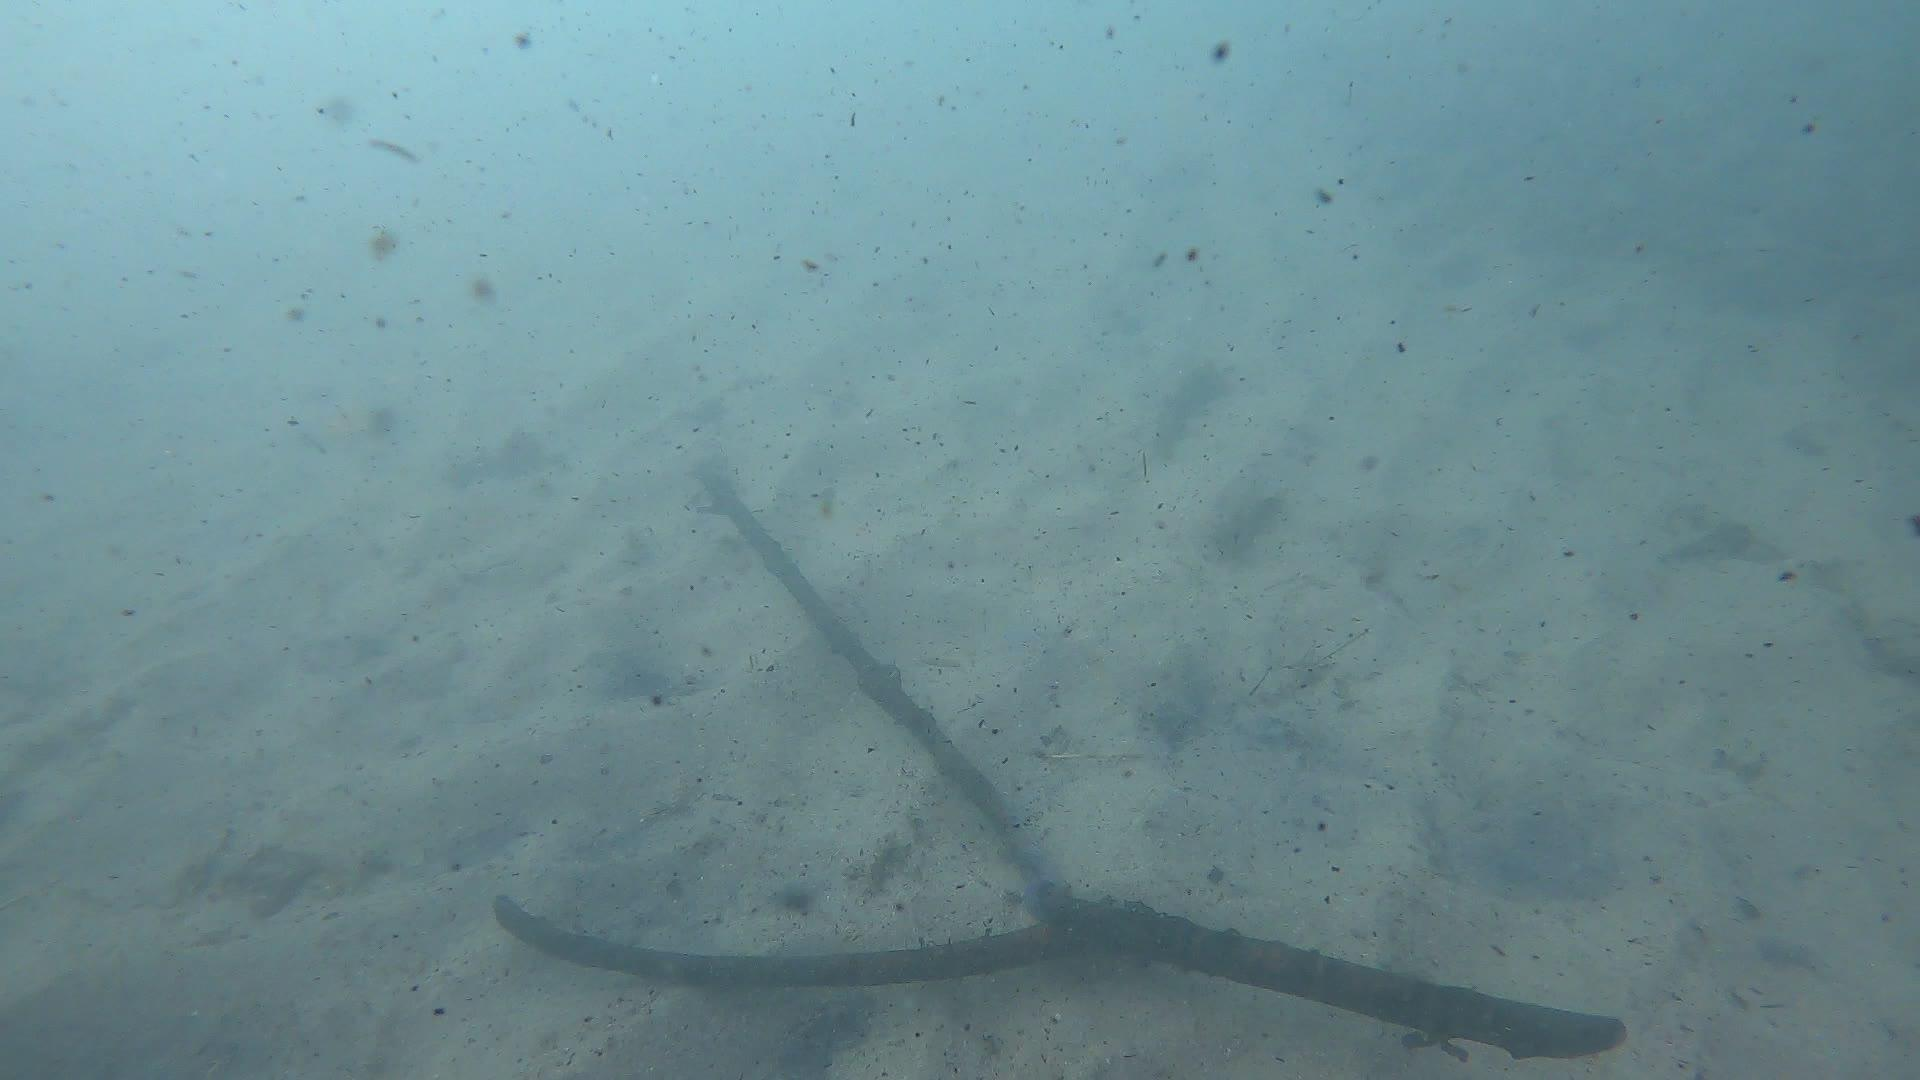wood: (491, 464, 1625, 1065)
